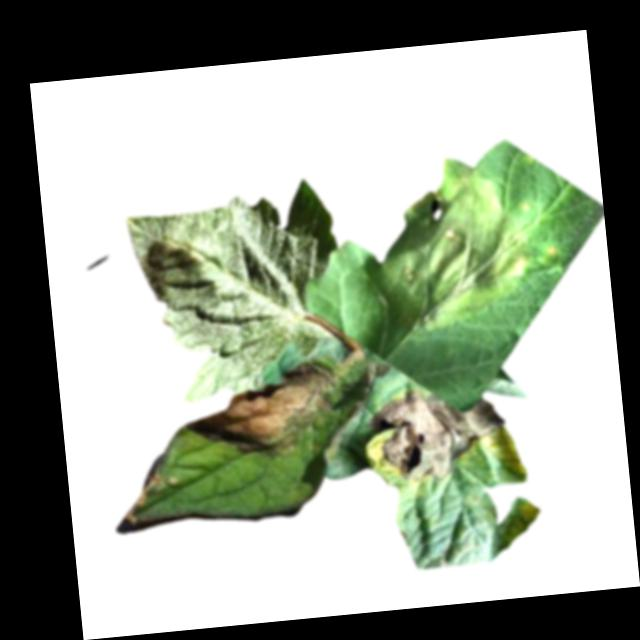Late_blight: (362, 152, 536, 335), (179, 359, 346, 465), (362, 381, 511, 489), (119, 454, 180, 527)
